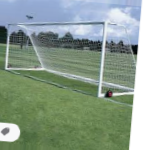goals: (4, 19, 136, 98)
